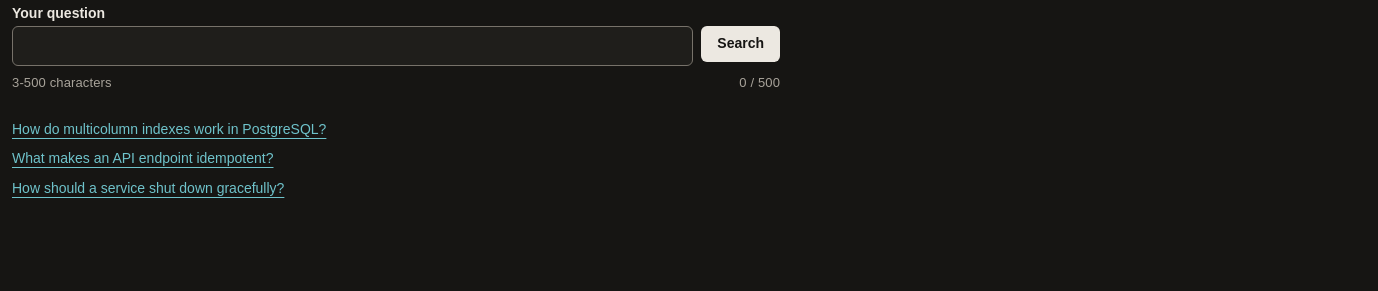
results › another failure shows the stopped panel with the fixed message
The width and height of the screenshot is (1378, 291).
Type "a question" into the search field labelled "Your question" at (353, 46), box [12,26,693,66]
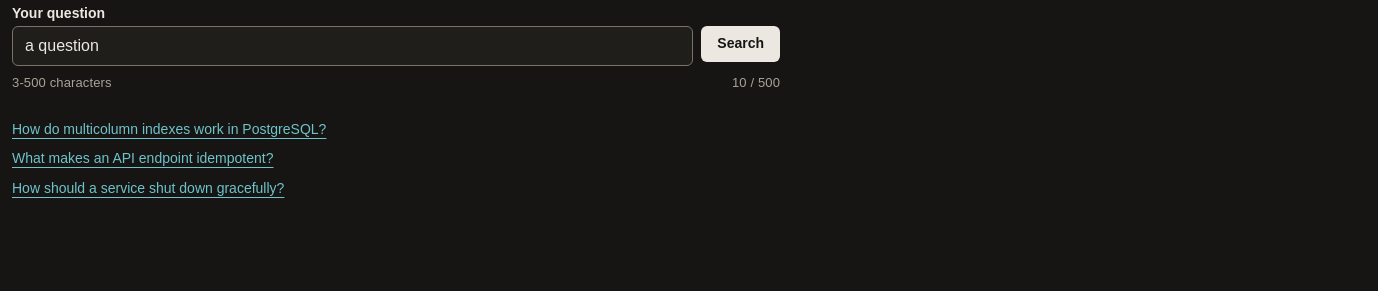
Click the button "Search" at (741, 44), box [701,26,780,62]
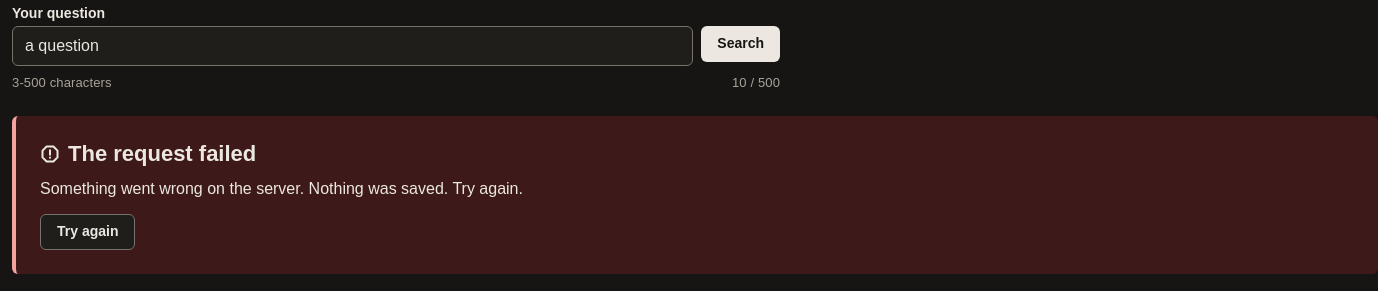
Result: the text "Something went wrong on the server" is shown at [40,180,523,197]
